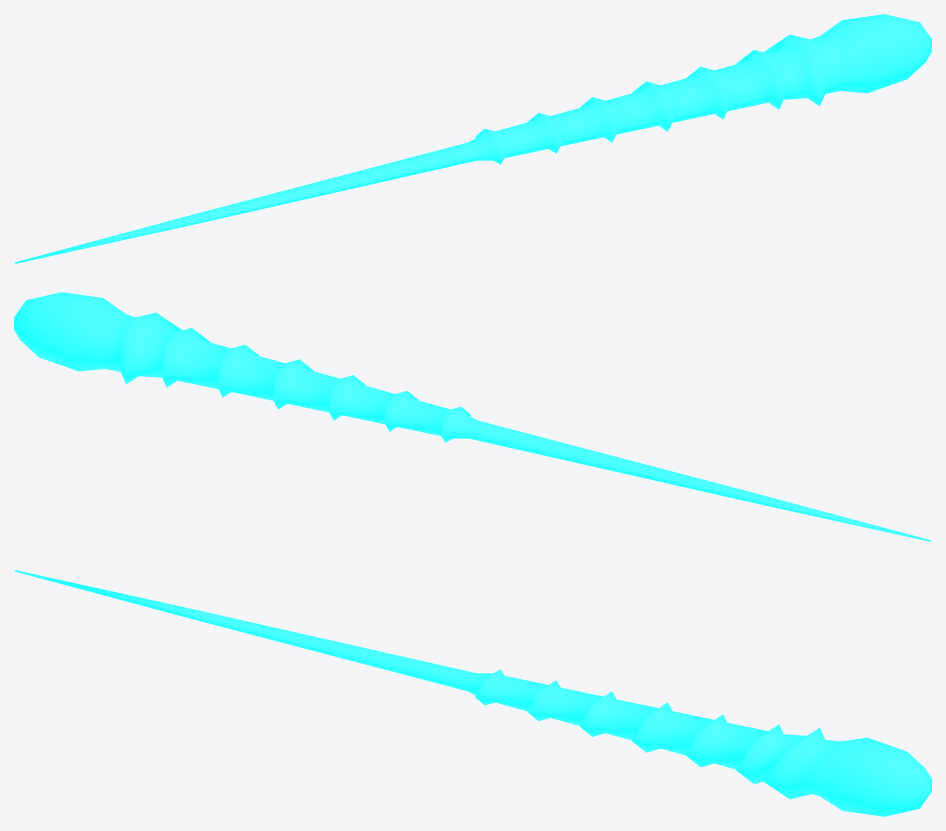
Rendered from SM_IonBlast.fbx.
3 views of the same model, one above another, from view 1: azimuth 30°, elevation 25°; view 2: azimuth 150°, elevation 25°; view 3: azimuth 330°, elevation 25° (orthographic).
Visible parts, largest first — view 1: SM_IonBlast; view 2: SM_IonBlast; view 3: SM_IonBlast.
Part boxes in pixels (left/top/right/bottom): SM_IonBlast: left=14, top=14, right=931, bottom=263; SM_IonBlast: left=14, top=292, right=931, bottom=541; SM_IonBlast: left=14, top=570, right=931, bottom=816.
Size of the model in its own units: 530 by 36.1 by 57.61.
